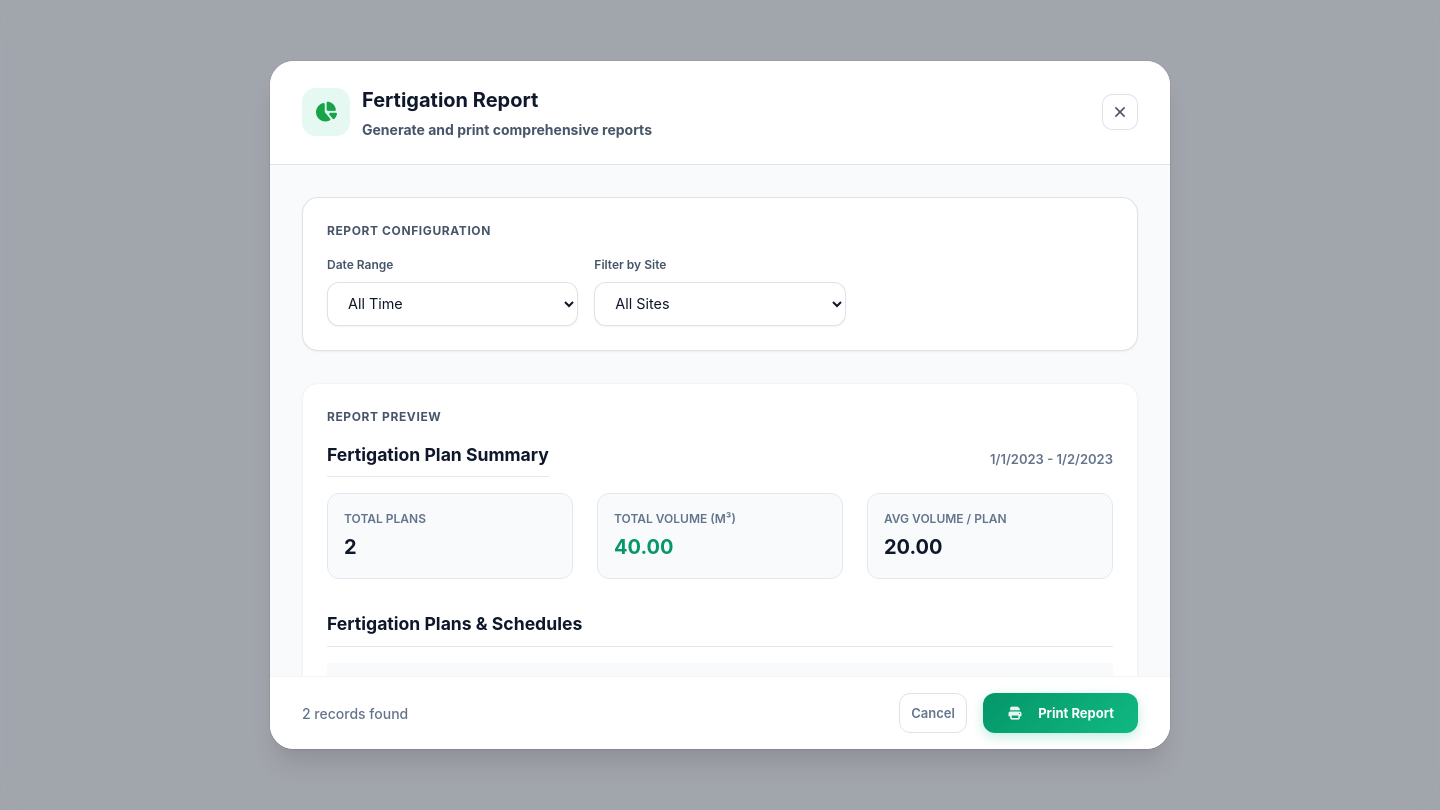
Test: FertigationReportModal › should filter data by country
The width and height of the screenshot is (1440, 810).
Expected: the text "40.00" is shown, [614,535,674,559]
Select "Site A" in the dropdown labelled "Filter by Site" at (720, 304), box [594,282,846,326]
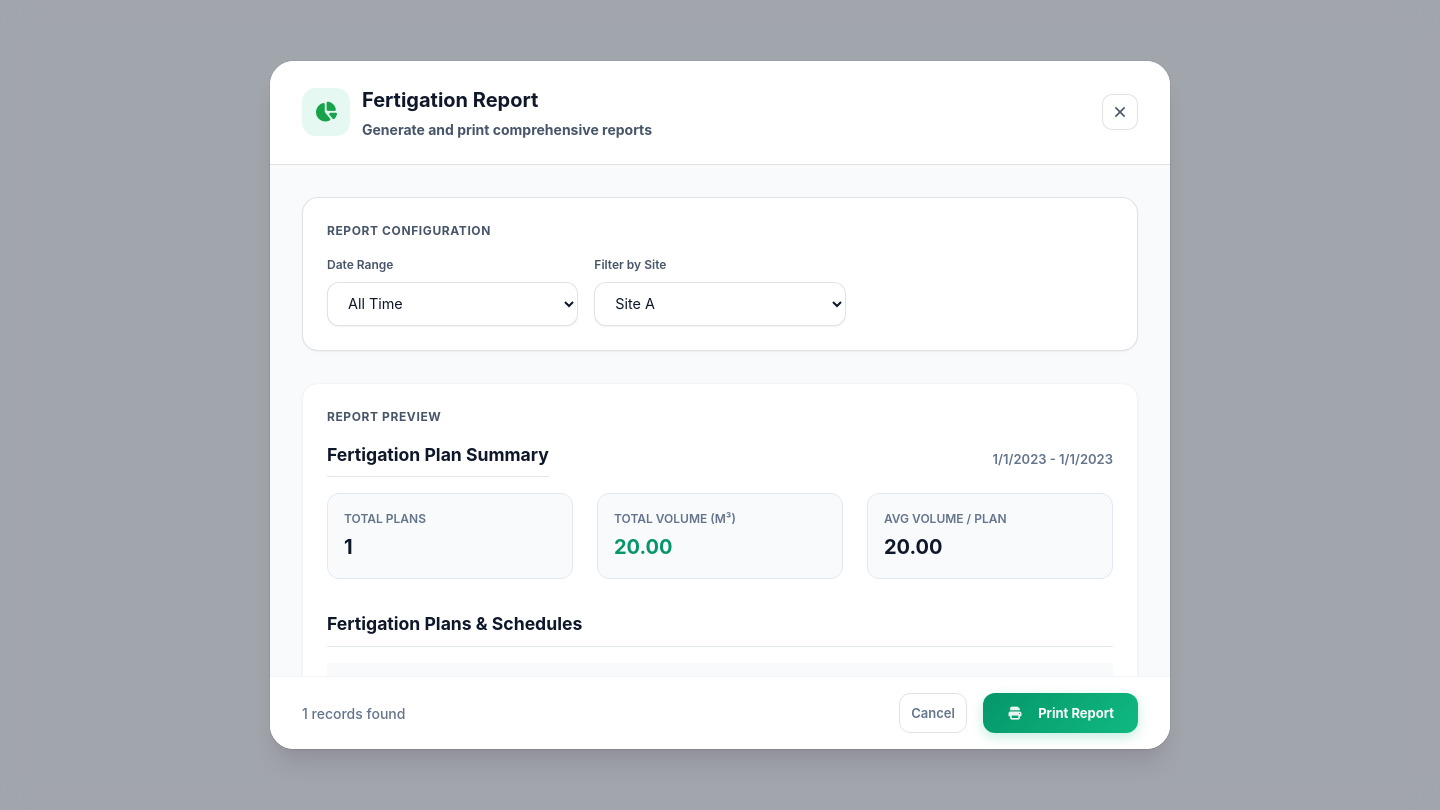
Expected: the text "20.00" below "Total Volume (m³)" is shown, [614,535,673,559]
